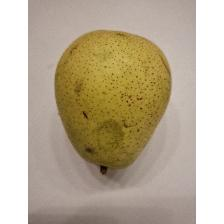Birne: (52, 28, 172, 176)
